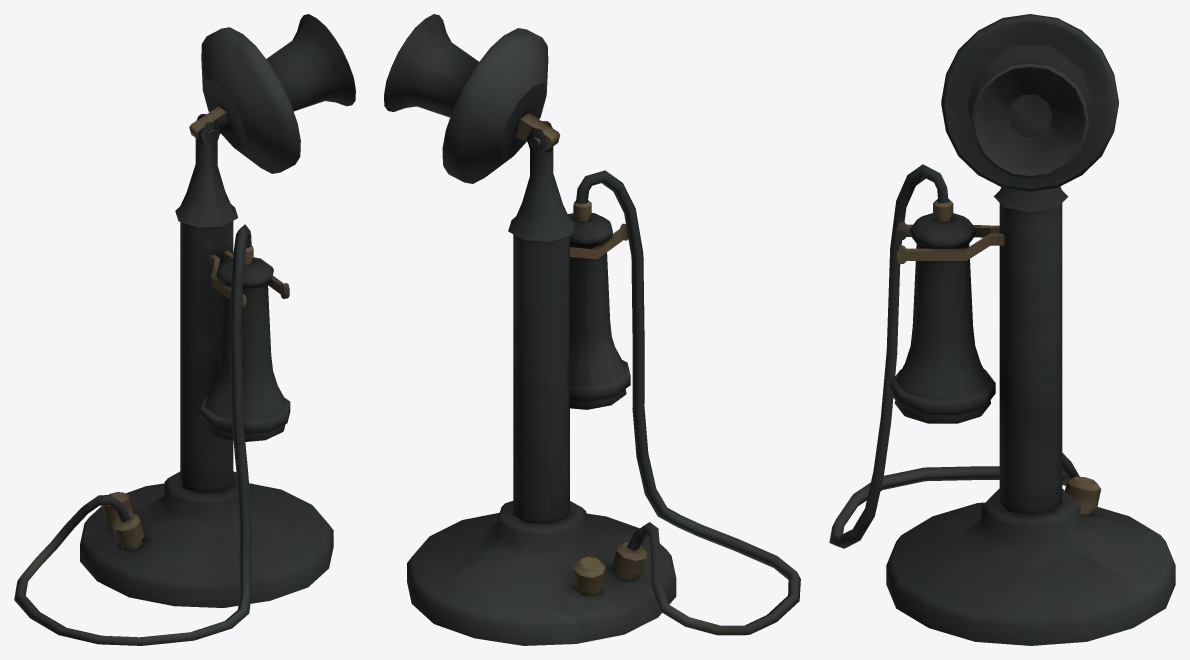
The picture shows the model from 3 angles, left to right: view 1: azimuth 30°, elevation 25°; view 2: azimuth 150°, elevation 25°; view 3: azimuth 270°, elevation 25°; orthographic projection. The views are drawn at different scales.
Parts seen in each view (by area): view 1: body0_model0_lod0_mesh0; view 2: body0_model0_lod0_mesh0; view 3: body0_model0_lod0_mesh0.
Boxes of the visible parts, x1,y1,x2,y2 form: body0_model0_lod0_mesh0: (14,14,355,645); body0_model0_lod0_mesh0: (384,14,800,645); body0_model0_lod0_mesh0: (829,14,1175,645).
Size of the model in its own units: 20.28 by 30.08 by 16.04.
1 material, 1 textured.
